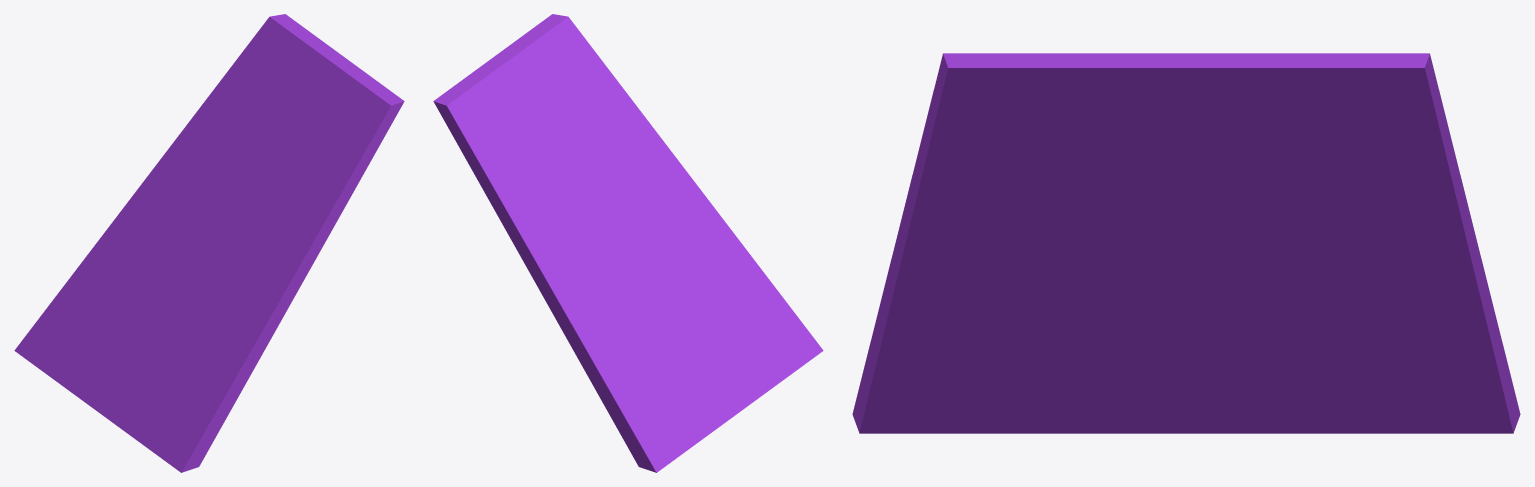
The model's file is Window_60.fbx.
3 renders of one model, left to right at view 1: azimuth 30°, elevation 25°; view 2: azimuth 150°, elevation 25°; view 3: azimuth 270°, elevation 25°, orthographic. The views are drawn at different scales.
Visible parts, largest first — view 1: Window_60; view 2: Window_60; view 3: Window_60.
Boxes of the visible parts, left/top/right/bottom form: Window_60: left=14, top=14, right=404, bottom=472; Window_60: left=433, top=14, right=823, bottom=472; Window_60: left=852, top=53, right=1520, bottom=433.
Size of the model in its own units: 833 by 947 by 975.
